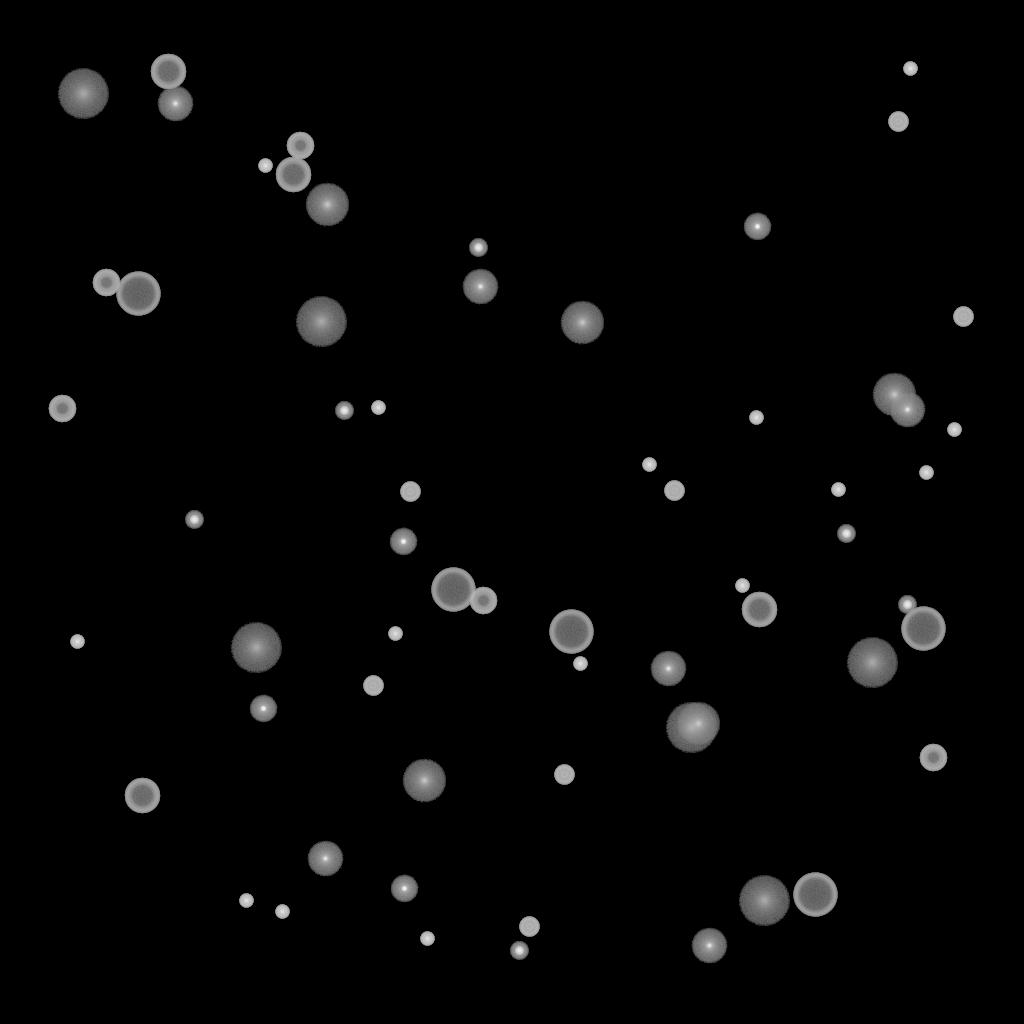depth:-10: (249, 695, 277, 723), (743, 213, 771, 241), (389, 528, 417, 556), (390, 875, 418, 903)
depth:-20: (335, 402, 353, 420), (898, 596, 916, 614), (837, 525, 855, 543), (185, 511, 203, 529), (510, 942, 528, 960), (469, 239, 487, 257)
depth:-30: (239, 894, 253, 908), (831, 483, 845, 497), (573, 657, 587, 671), (749, 411, 763, 425), (919, 466, 933, 480), (642, 458, 656, 472), (735, 579, 749, 593), (388, 627, 402, 641), (275, 905, 289, 919), (371, 401, 385, 415), (420, 932, 434, 946), (903, 62, 917, 76), (70, 635, 84, 649), (258, 159, 272, 173), (947, 423, 961, 437)
depth:-40: (953, 307, 973, 327), (400, 482, 420, 502), (888, 112, 908, 132), (363, 676, 383, 696), (664, 481, 684, 501), (519, 917, 539, 937), (554, 765, 574, 785)
depth:-50: (286, 132, 314, 160), (469, 587, 497, 615), (92, 269, 120, 297), (48, 395, 76, 423), (919, 744, 947, 772)
depth:-60: (275, 157, 311, 193), (741, 592, 777, 628), (150, 54, 186, 90), (124, 778, 160, 814)
depth:-70: (901, 607, 945, 651), (431, 568, 475, 612), (549, 610, 593, 654), (116, 272, 160, 316), (793, 873, 837, 917)
depth:0: (462, 269, 498, 305), (307, 841, 343, 877), (157, 86, 193, 122), (650, 651, 686, 687), (889, 392, 925, 428), (691, 928, 727, 964)
depth:10: (305, 183, 349, 227), (560, 301, 604, 345), (676, 702, 720, 746), (402, 759, 446, 803), (872, 373, 916, 417)
depth:20: (846, 638, 898, 688), (738, 876, 790, 926), (57, 69, 109, 119), (230, 623, 282, 673), (665, 703, 717, 753), (295, 297, 347, 347)
